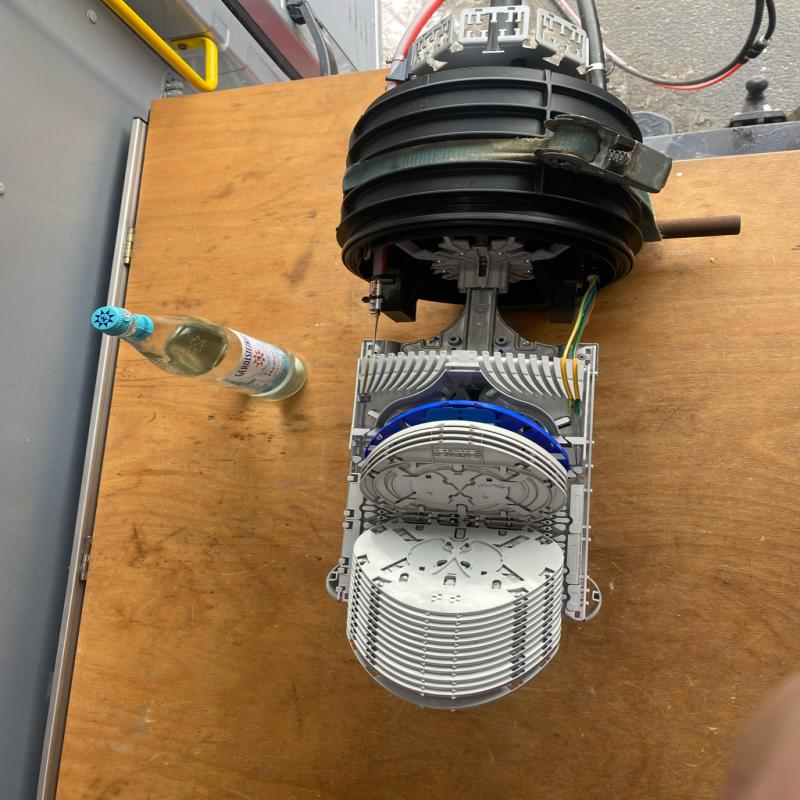NT-Muffen: (339, 6, 681, 703)
